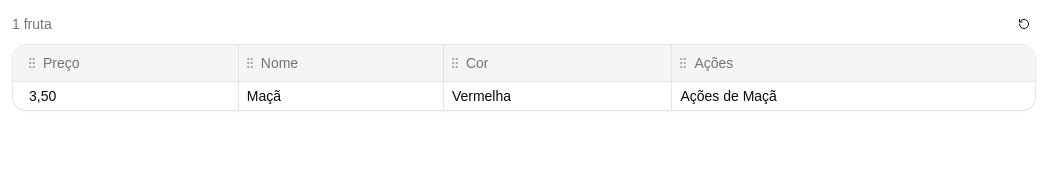
ArrangeableTable › puts the columns back with an icon button beside the count, explained on hover
The image size is (1048, 172).
Expected: the icon in the row of "fruta" is shown, [1018,18,1030,30]
Hover over the button named "Restaurar colunas" at x=1024, y=24, box [1012,12,1036,36]
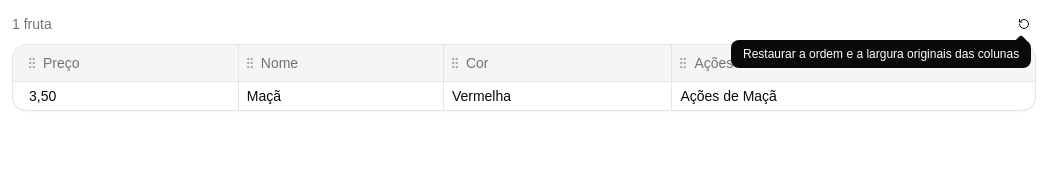
Result: the text "Restaurar a ordem e a largura originais das colunas" is shown at [731,40,1031,68]
